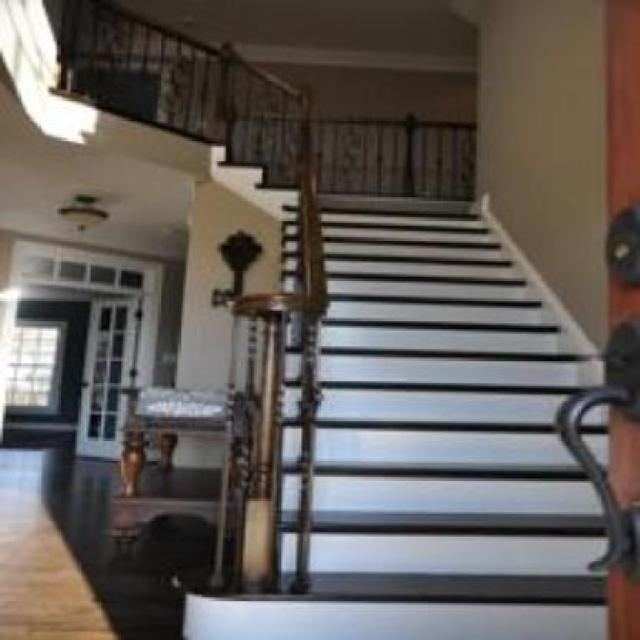stair: (286, 195, 606, 640)
